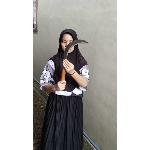Celurit: (55, 37, 91, 83)
